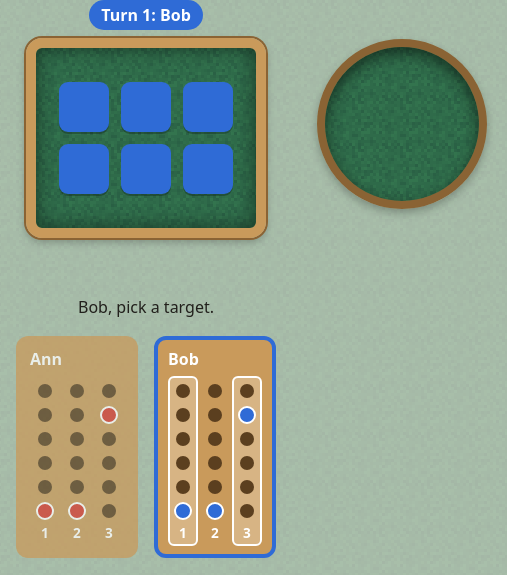
recovers from a failed choice on the next pick
Click the 2nd button "1": (183, 461) [168, 376, 198, 546]
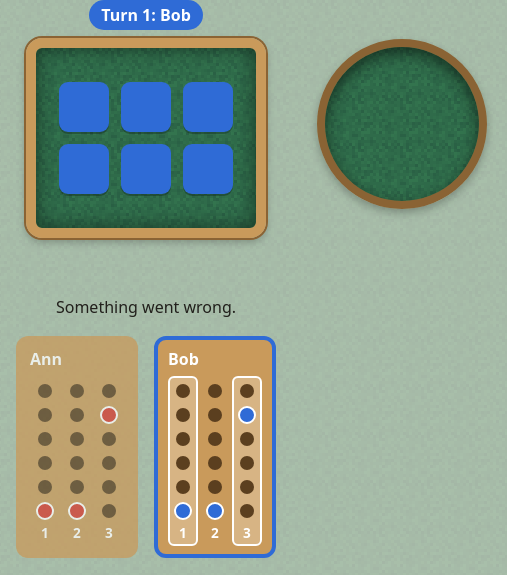
expect the text "Something went wrong." is shown: met, box [56, 296, 236, 318]
Click the 2nd button "1": (183, 461) [168, 376, 198, 546]
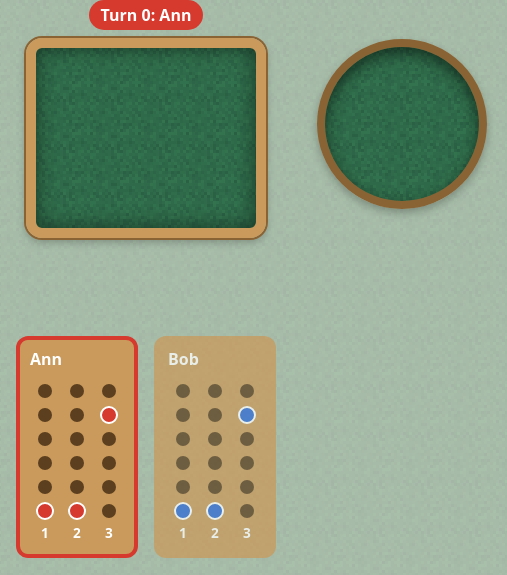
expect the text "Something went wrong." is gone: met
